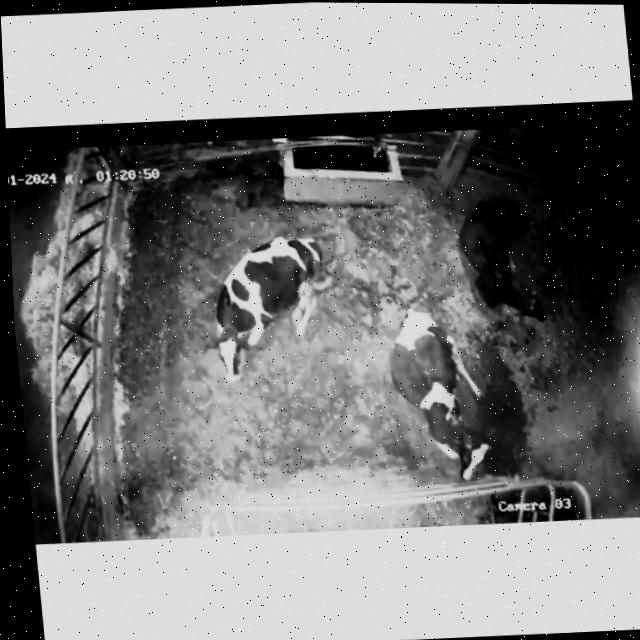lay: (180, 220, 351, 397), (377, 295, 508, 485), (451, 190, 562, 342)
